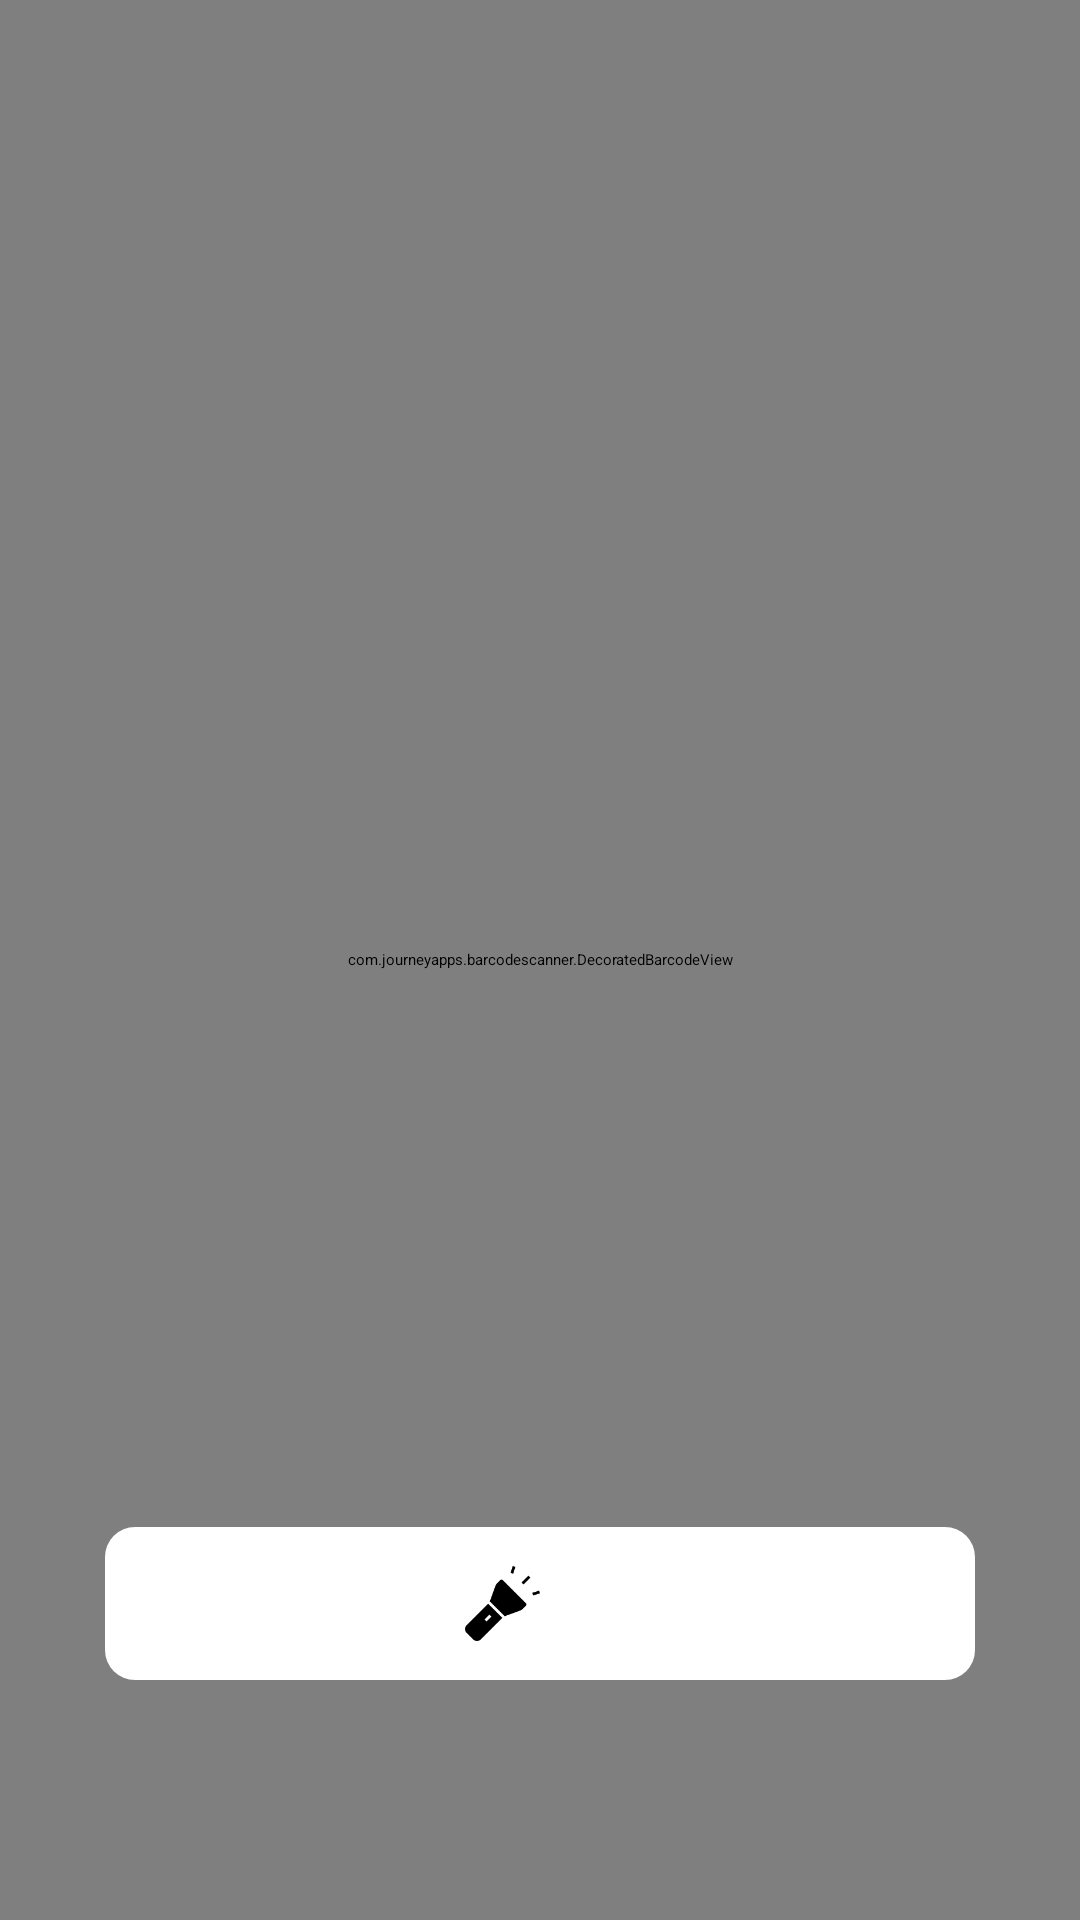

Named icons in this screenshot (1080px x 1920px) and their bounding boxes, box=[x1, y1, x2, y2]:
torch: box=[465, 1566, 540, 1641]
